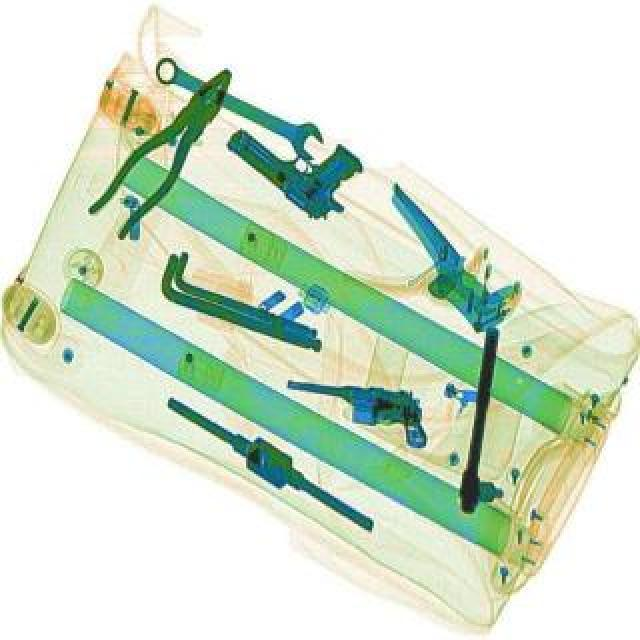gun: (220, 96, 376, 234), (278, 378, 434, 452)
scissors: (146, 52, 332, 166)
wrench: (80, 60, 250, 248)
